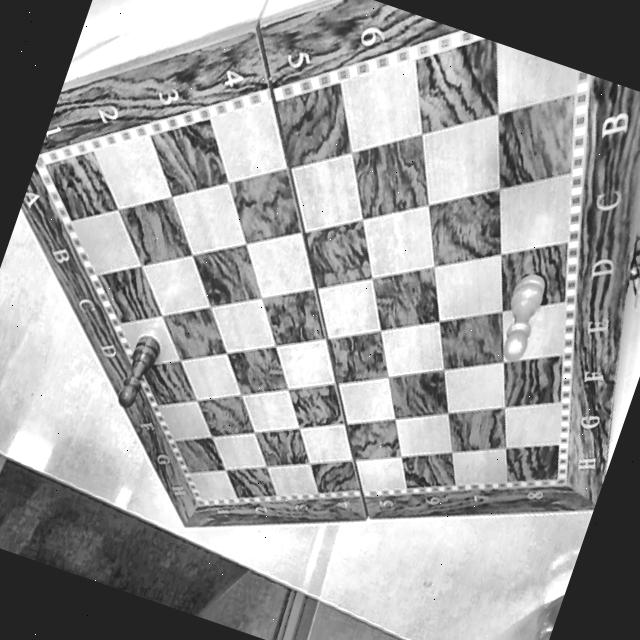black-pawn: (101, 310, 174, 420)
white-pawn: (491, 268, 551, 366)
